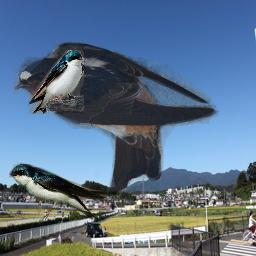Swallow: (13, 39, 219, 193), (9, 163, 112, 224), (28, 50, 84, 114)
